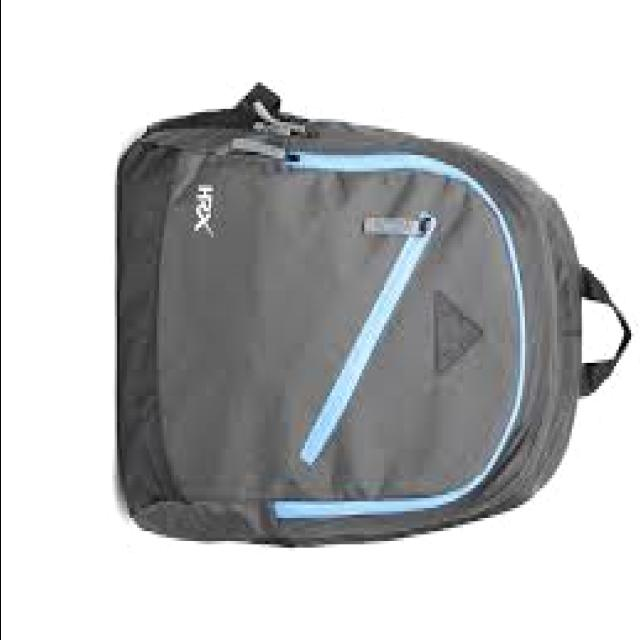backpack: (118, 84, 634, 549)
